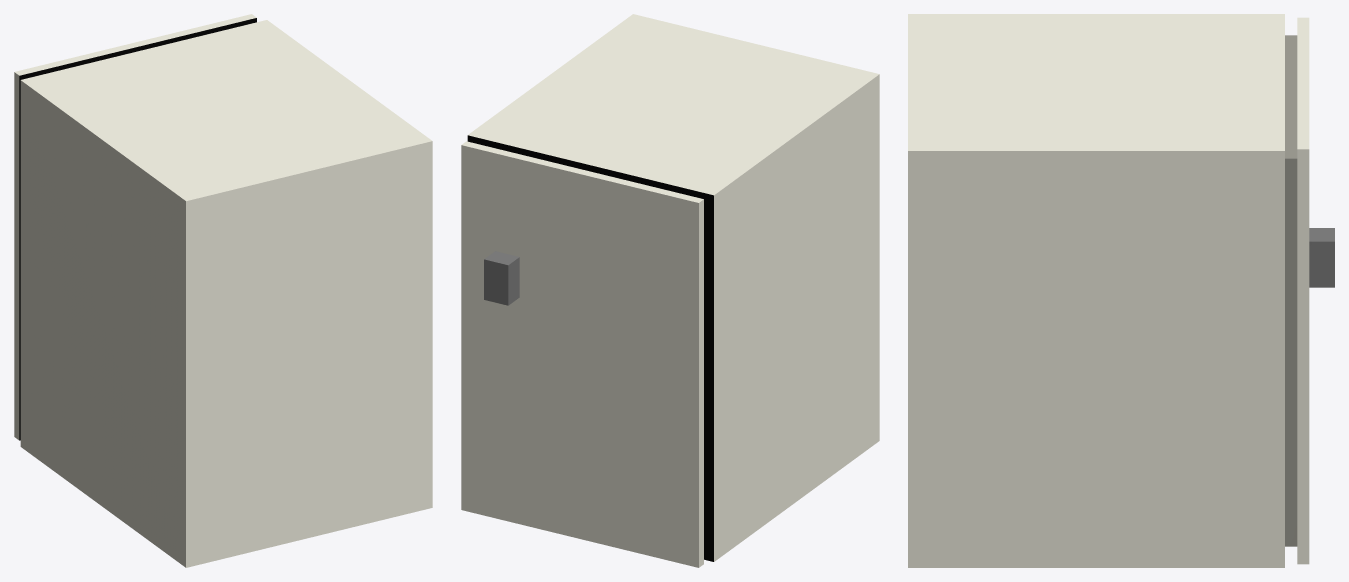
Rendered from minifridge.fbx.
3 views of the same model, side by side, from view 1: azimuth 30°, elevation 25°; view 2: azimuth 150°, elevation 25°; view 3: azimuth 270°, elevation 25° (orthographic). The views are drawn at different scales.
Visible parts, largest first — view 1: Cube; view 2: Cube; view 3: Cube.
Part boxes in pixels (<box>): Cube: <box>14,14,432,567</box>; Cube: <box>461,14,879,567</box>; Cube: <box>908,14,1334,567</box>.
Bounding box in the file's own units: 141 × 200 × 186.
Materials: 1 (1 with a texture image).
